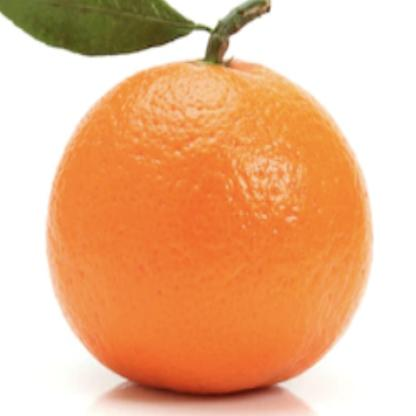fresh: (49, 53, 372, 394)
